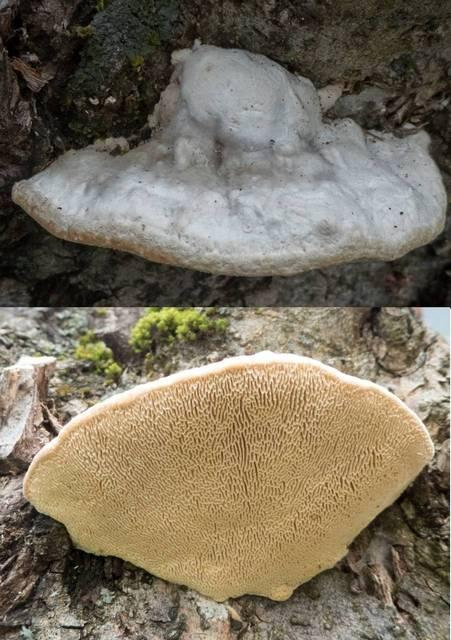poisonous_mushroom: (20, 348, 435, 605), (9, 39, 449, 278)
